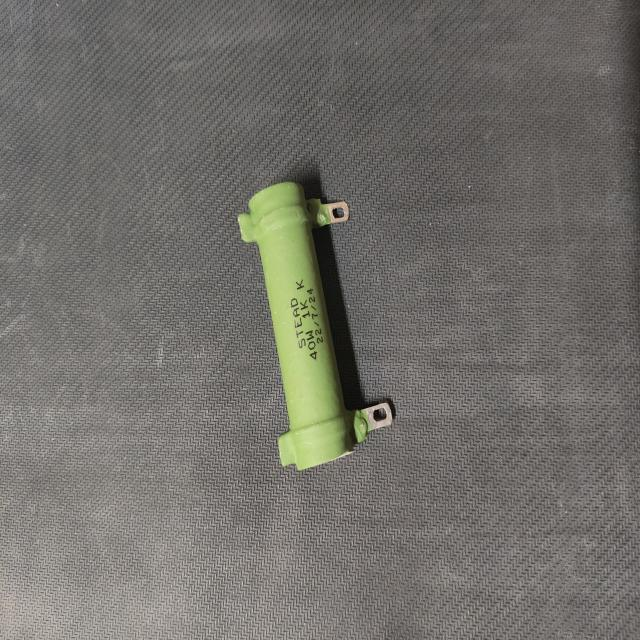resistor: (229, 170, 400, 478)
